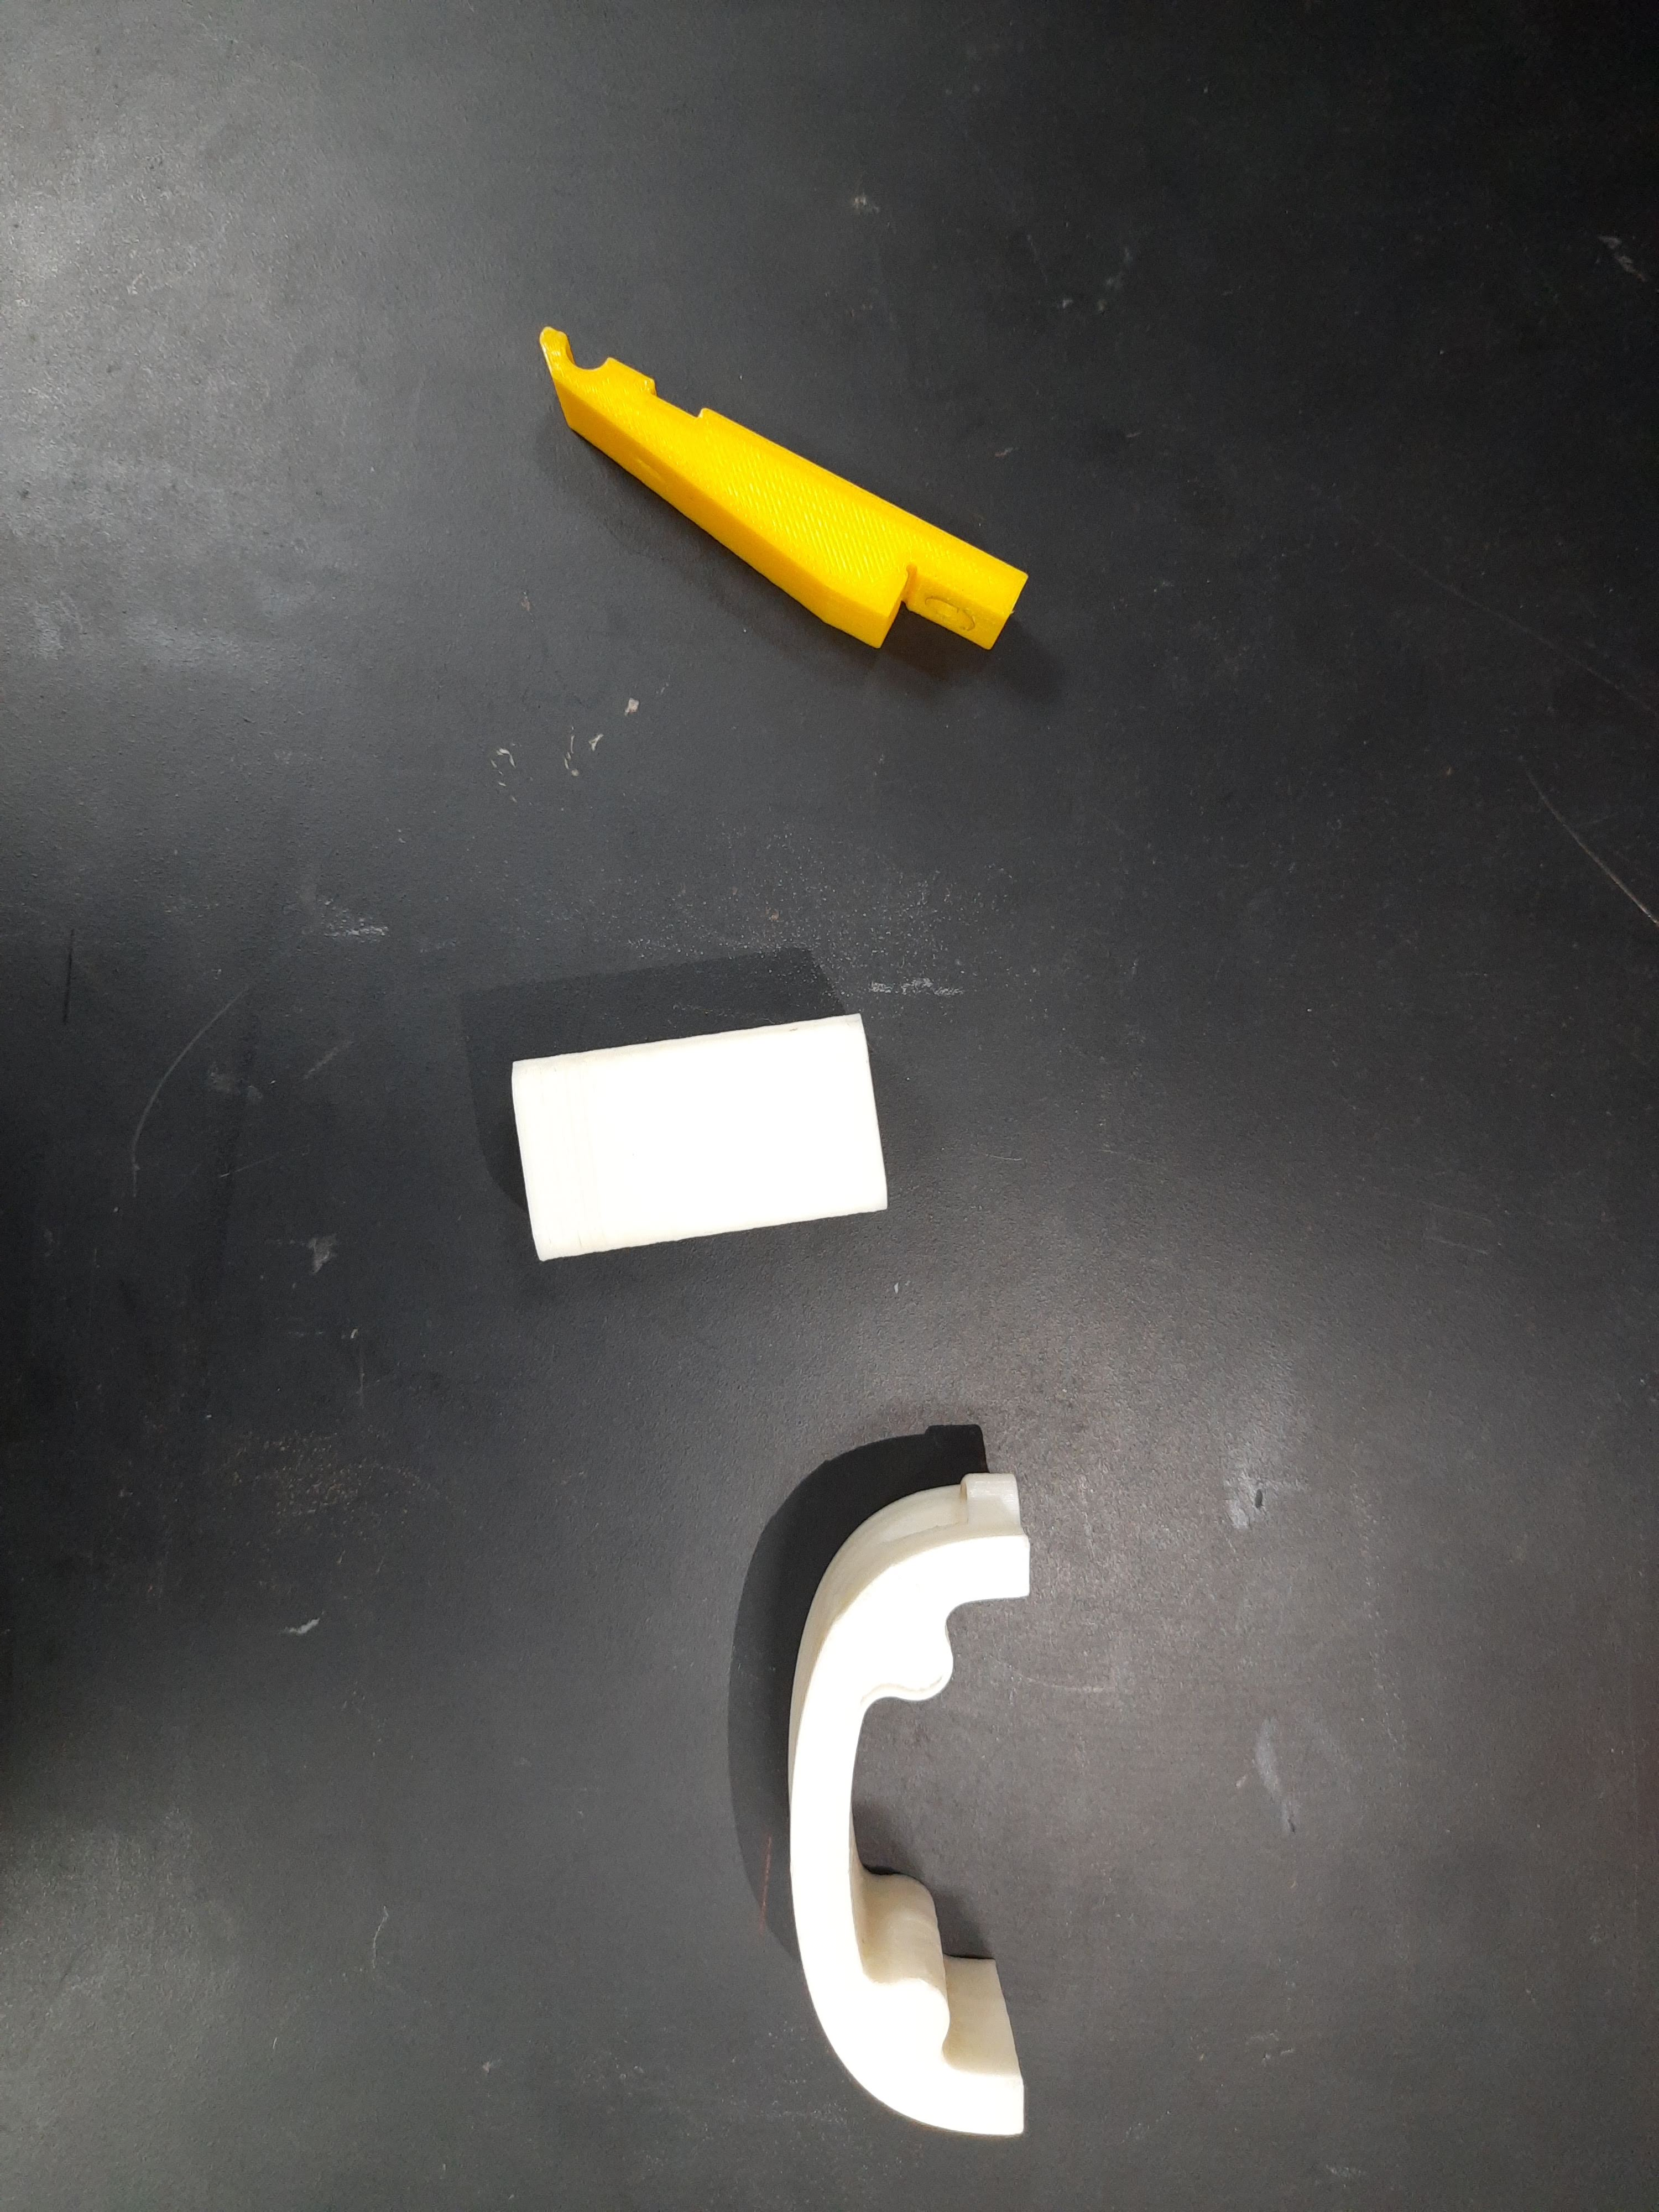ARC: (782, 1474, 1032, 2141)
CUBE: (505, 1010, 884, 1254)
YELLOW: (488, 315, 1037, 698)
